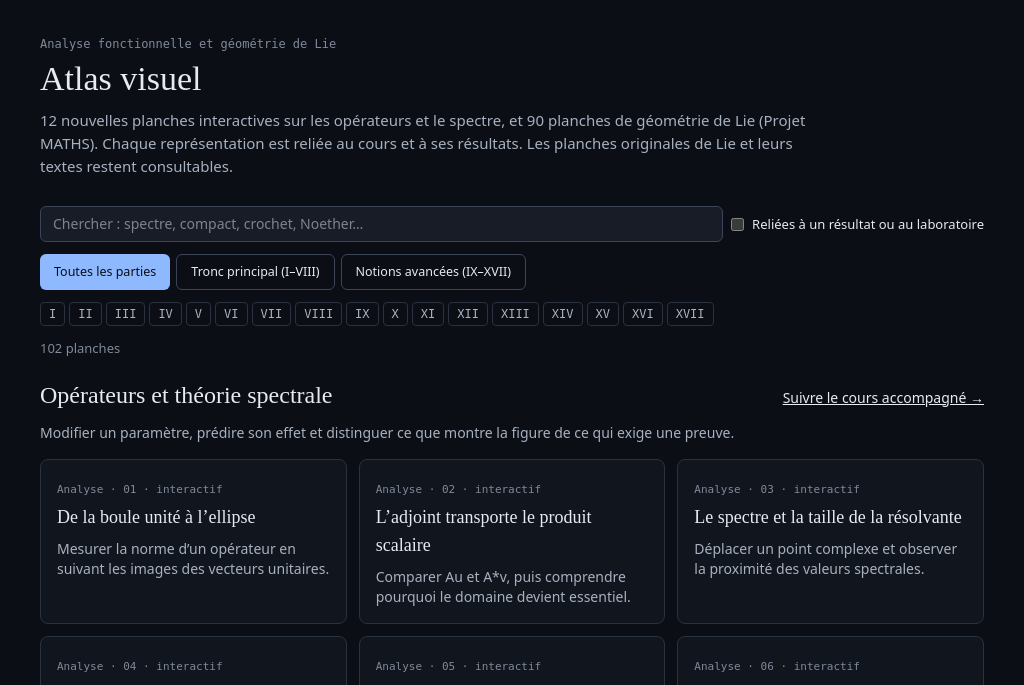
Test: Parcours pédagogique opérateurs › trouve les nouvelles planches dans la recherche de l’atlas
Type "spectre continu" into the search field.
click(382, 224); type("spectre continu")  # box [40, 206, 723, 242]
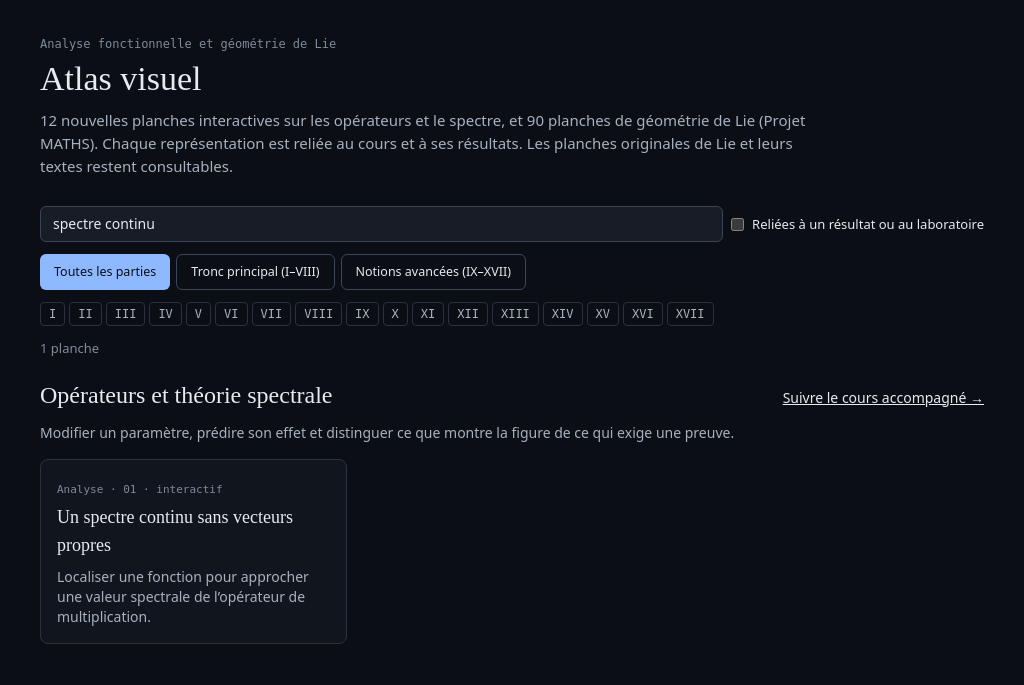
Click the link that starts with "Analyse ·".
click(90, 489)  # box [40, 458, 347, 644]
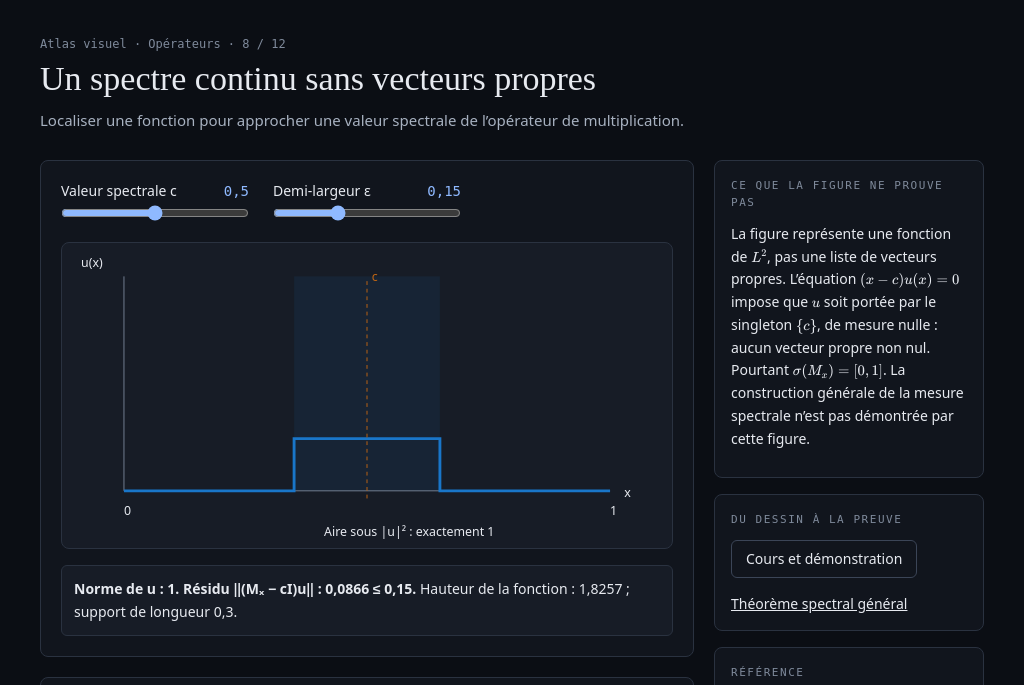
Result: the heading "Un spectre continu sans vecteurs propres" is shown at [40, 60, 596, 97]
